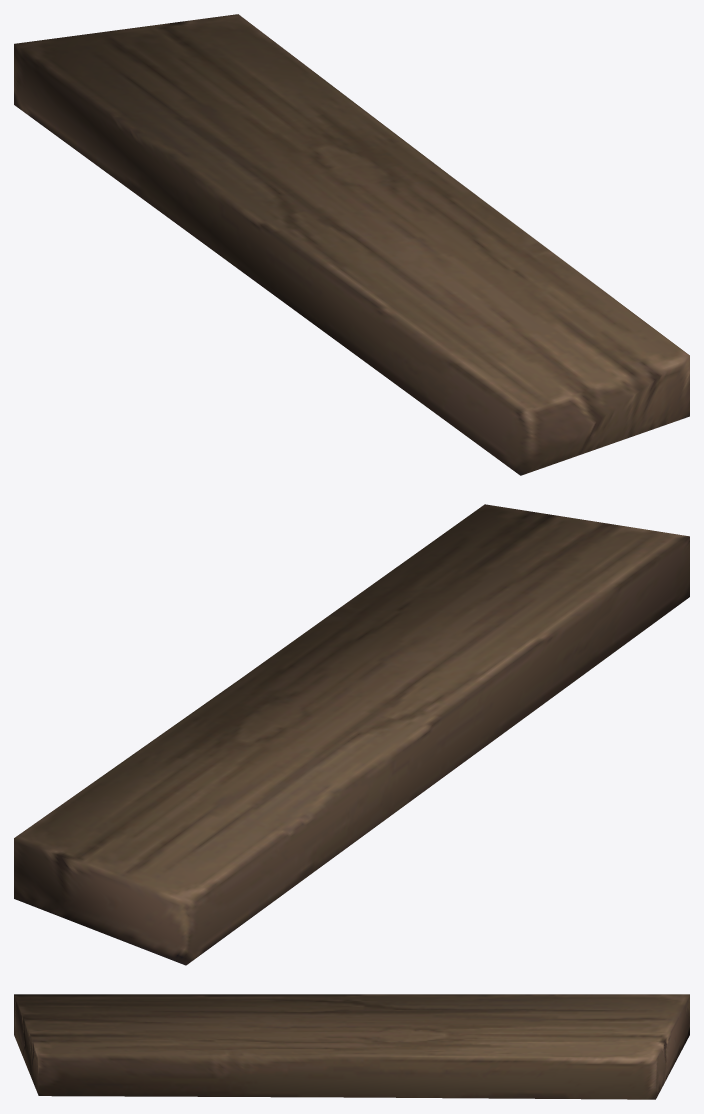
File: yw_shanlin_plank_002.FBX
The picture shows the model from 3 angles, top to bottom: view 1: azimuth 30°, elevation 25°; view 2: azimuth 150°, elevation 25°; view 3: azimuth 270°, elevation 25°; orthographic projection. The views are drawn at different scales.
Parts seen in each view (by area): view 1: yw_shanlin_plank_002; view 2: yw_shanlin_plank_002; view 3: yw_shanlin_plank_002.
Boxes of the visible parts, bbox=[...] form: yw_shanlin_plank_002: bbox=[14, 14, 689, 475]; yw_shanlin_plank_002: bbox=[14, 504, 689, 965]; yw_shanlin_plank_002: bbox=[14, 994, 689, 1099].
Size of the model in its own units: 159 by 701 by 46.55.
